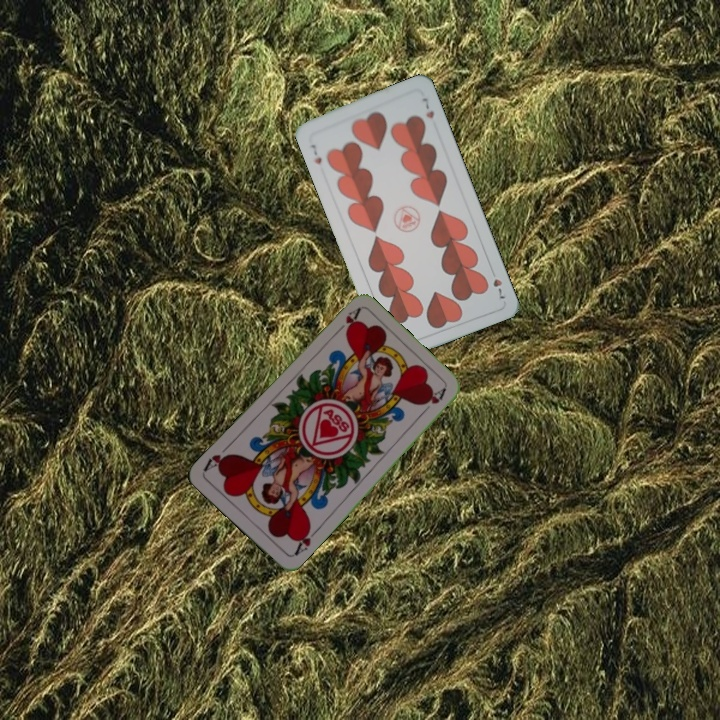H7: (486, 264, 509, 303), (307, 140, 324, 167)
HA: (330, 304, 363, 338), (290, 522, 321, 558)
